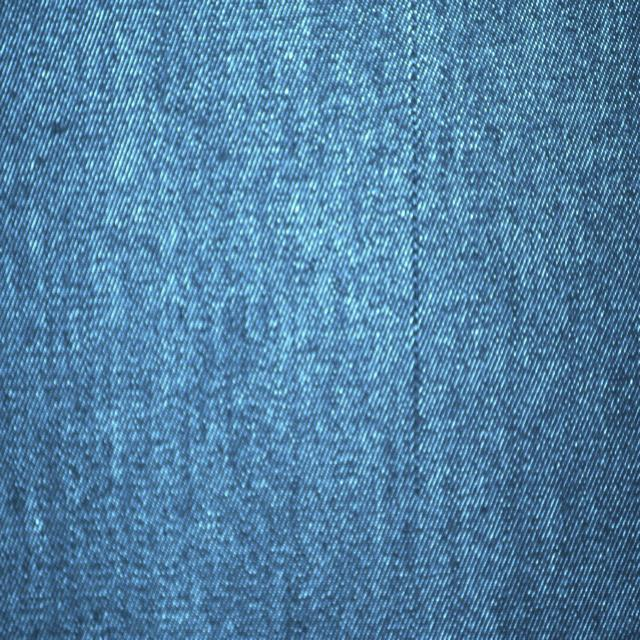Line: (406, 0, 422, 504)
